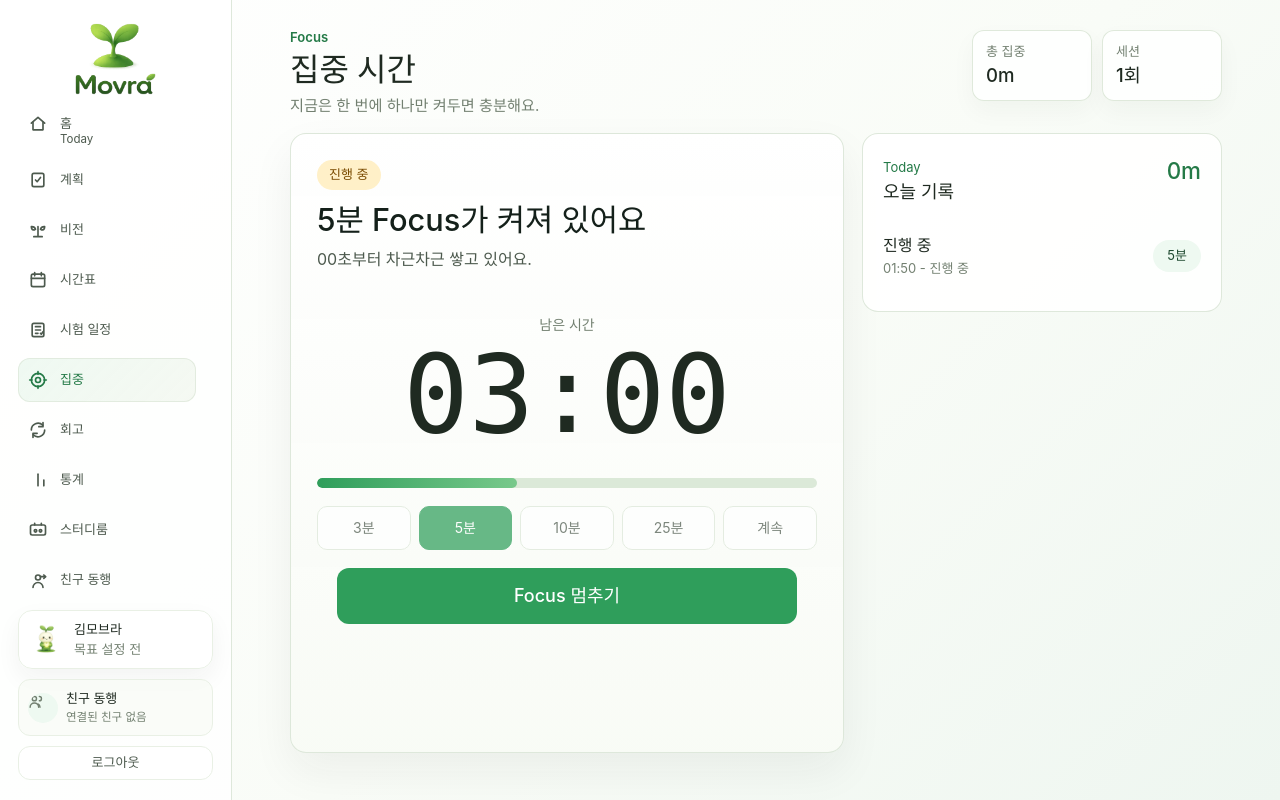
FocusPage › shows an in-progress session and lets users stop it
Expected: the text "03:00" is shown, x1=403 y1=341 x2=731 y2=450
Click the button "Focus 멈추기" at (567, 596), box x1=337 y1=568 x2=797 y2=624
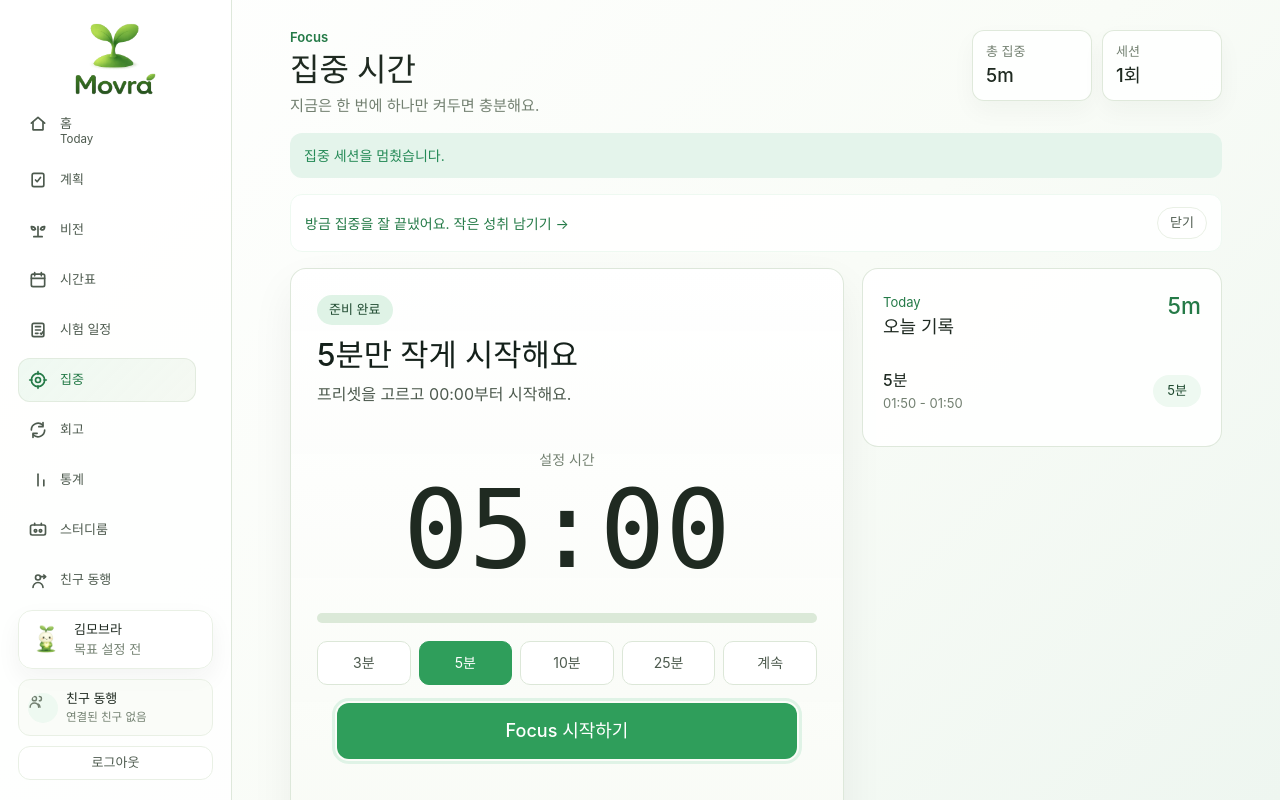
Expected: the message reads "집중 세션을 멈췄습니다.", x1=304 y1=147 x2=445 y2=164
